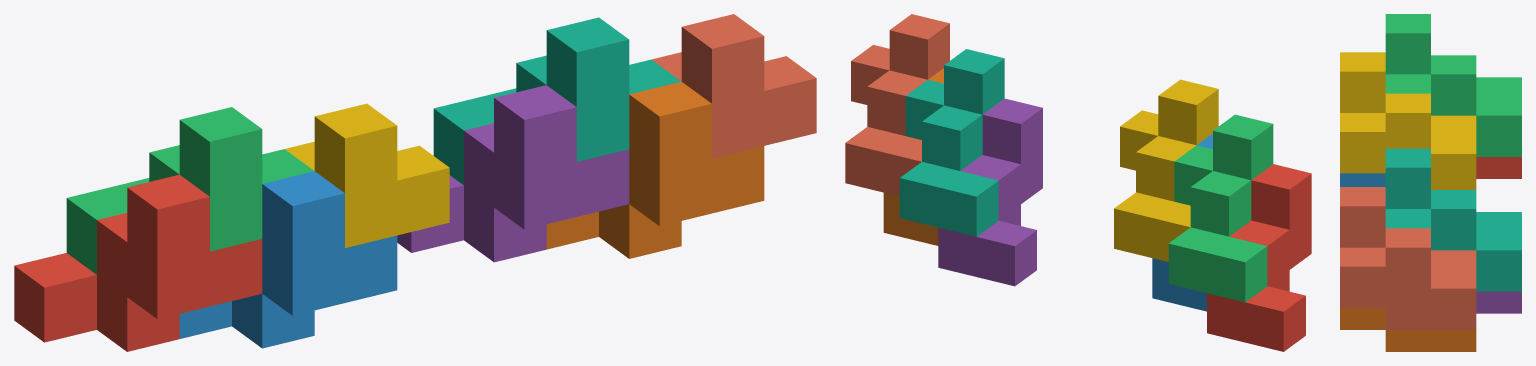
Rendered from tiling.obj.
The picture shows the model from 3 angles, left to right: view 1: azimuth 30°, elevation 25°; view 2: azimuth 150°, elevation 25°; view 3: azimuth 270°, elevation 25°; orthographic projection. The views are drawn at different scales.
Visible parts, largest first — view 1: copy_1_domain_1, copy_1_domain_5, copy_1_domain_6, copy_1_domain_2, copy_1_domain_3, copy_1_domain_7, copy_1_domain_8, copy_1_domain_4; view 2: copy_1_domain_3, copy_1_domain_7, copy_1_domain_8, copy_1_domain_4, copy_1_domain_1, copy_1_domain_5, copy_1_domain_6, copy_1_domain_2; view 3: copy_1_domain_8, copy_1_domain_4, copy_1_domain_7, copy_1_domain_3, copy_1_domain_6, copy_1_domain_5, copy_1_domain_1, copy_1_domain_2.
Boxes of the visible parts, box(x1,y1,x2,y2) form: copy_1_domain_1: box(14, 174, 262, 351); copy_1_domain_5: box(397, 85, 629, 262); copy_1_domain_6: box(546, 81, 764, 258); copy_1_domain_2: box(179, 171, 397, 348); copy_1_domain_3: box(66, 107, 314, 274); copy_1_domain_7: box(433, 17, 680, 185); copy_1_domain_8: box(651, 14, 816, 158); copy_1_domain_4: box(285, 103, 449, 247); copy_1_domain_3: box(1168, 114, 1273, 302); copy_1_domain_7: box(899, 49, 1004, 236); copy_1_domain_8: box(845, 14, 949, 196); copy_1_domain_4: box(1114, 79, 1218, 261); copy_1_domain_1: box(1207, 164, 1311, 351); copy_1_domain_5: box(938, 98, 1042, 286); copy_1_domain_6: box(883, 68, 943, 245); copy_1_domain_2: box(1152, 133, 1212, 311); copy_1_domain_8: box(1340, 187, 1476, 329); copy_1_domain_4: box(1340, 52, 1476, 189); copy_1_domain_7: box(1385, 148, 1521, 291); copy_1_domain_3: box(1385, 14, 1521, 156); copy_1_domain_6: box(1340, 308, 1476, 351); copy_1_domain_5: box(1476, 291, 1521, 313); copy_1_domain_1: box(1476, 157, 1521, 178); copy_1_domain_2: box(1340, 173, 1385, 186).
Size of the model in its own units: 13 by 4 by 4.
